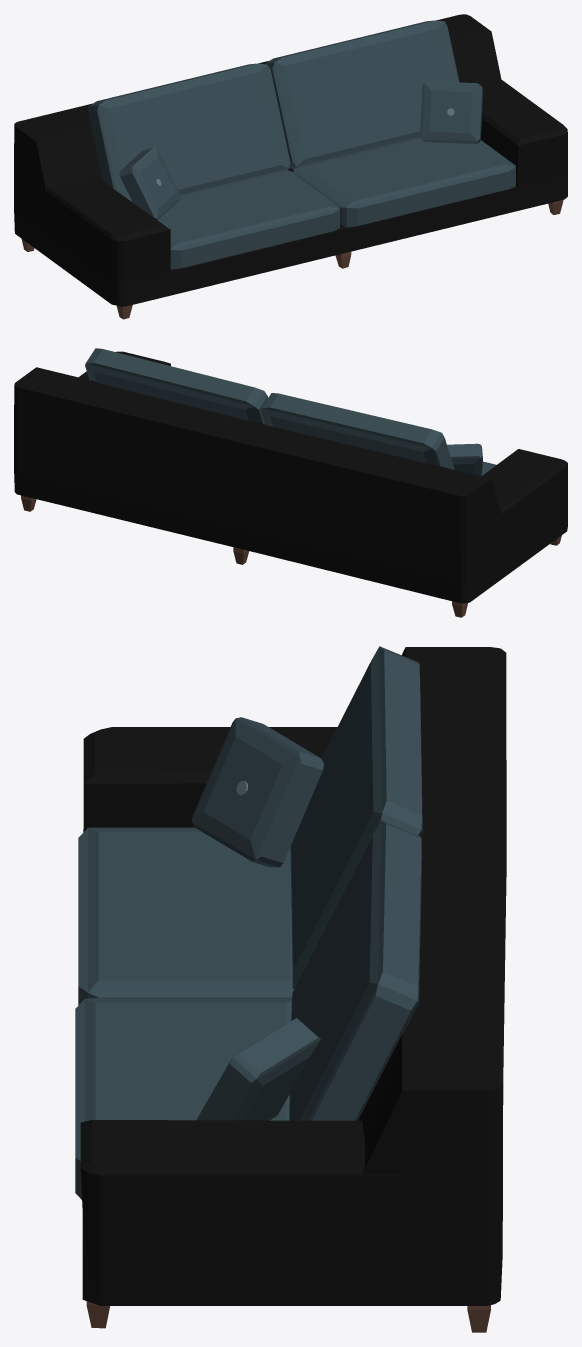
Rendered from sofa.glb.
3 renders of one model, top to bottom at view 1: azimuth 30°, elevation 25°; view 2: azimuth 150°, elevation 25°; view 3: azimuth 270°, elevation 25°, orthographic. The views are drawn at different scales.
Parts seen in each view (by area): view 1: node_MeshObject634761920-PolyPaper20; view 2: node_MeshObject634761920-PolyPaper20; view 3: node_MeshObject634761920-PolyPaper20.
Boxes of the visible parts, <box> form: node_MeshObject634761920-PolyPaper20: <box>14,14,567,319</box>; node_MeshObject634761920-PolyPaper20: <box>14,348,567,617</box>; node_MeshObject634761920-PolyPaper20: <box>75,646,506,1332</box>.
Size of the model in its own units: 23.52 by 7.69 by 9.65.
